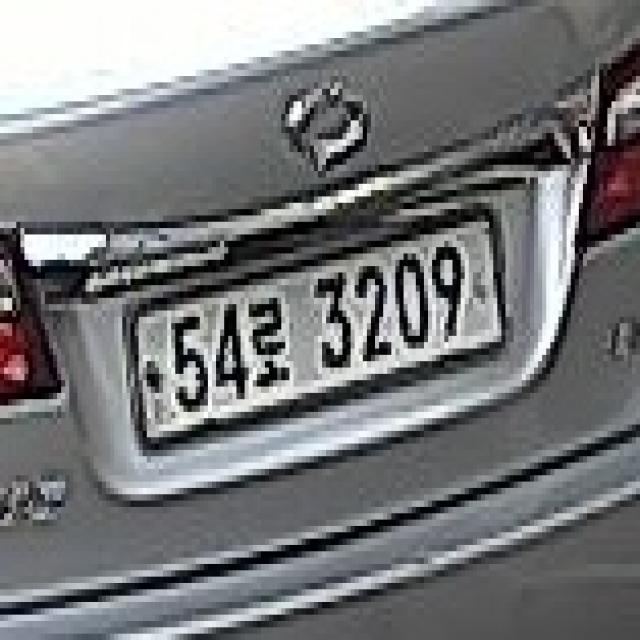0: (391, 222, 432, 355)
2: (355, 241, 391, 374)
3: (314, 254, 350, 380)
4: (212, 272, 253, 412)
5: (163, 273, 212, 418)
9: (428, 228, 473, 355)
license_plate: (118, 184, 514, 482)
lo: (240, 273, 298, 399)
